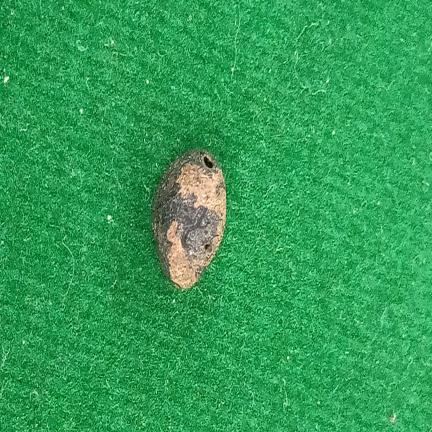partial-black: (151, 149, 226, 288)
